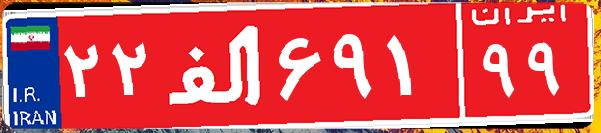1: (385, 28, 445, 110)
2: (57, 26, 110, 107), (110, 28, 158, 105)
6: (273, 28, 330, 110)
9: (330, 28, 385, 110), (475, 38, 525, 113), (525, 38, 570, 115)
الف: (158, 15, 273, 115)
